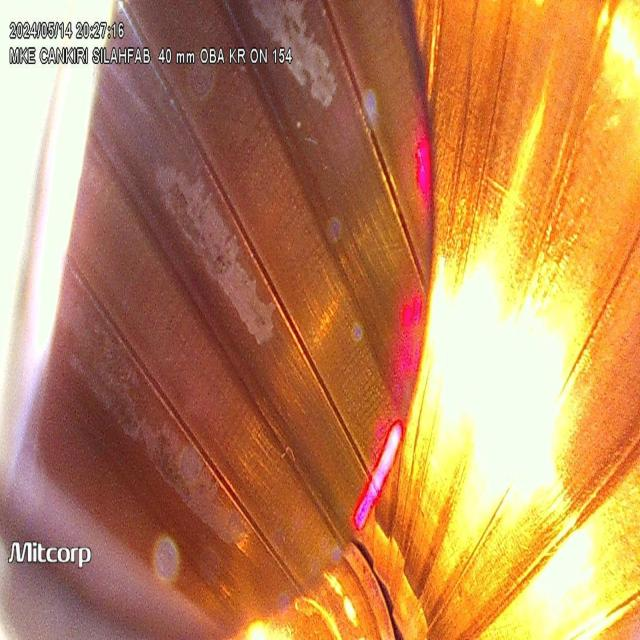hata_9.3: (60, 344, 266, 559), (148, 157, 290, 358), (251, 3, 362, 119)
